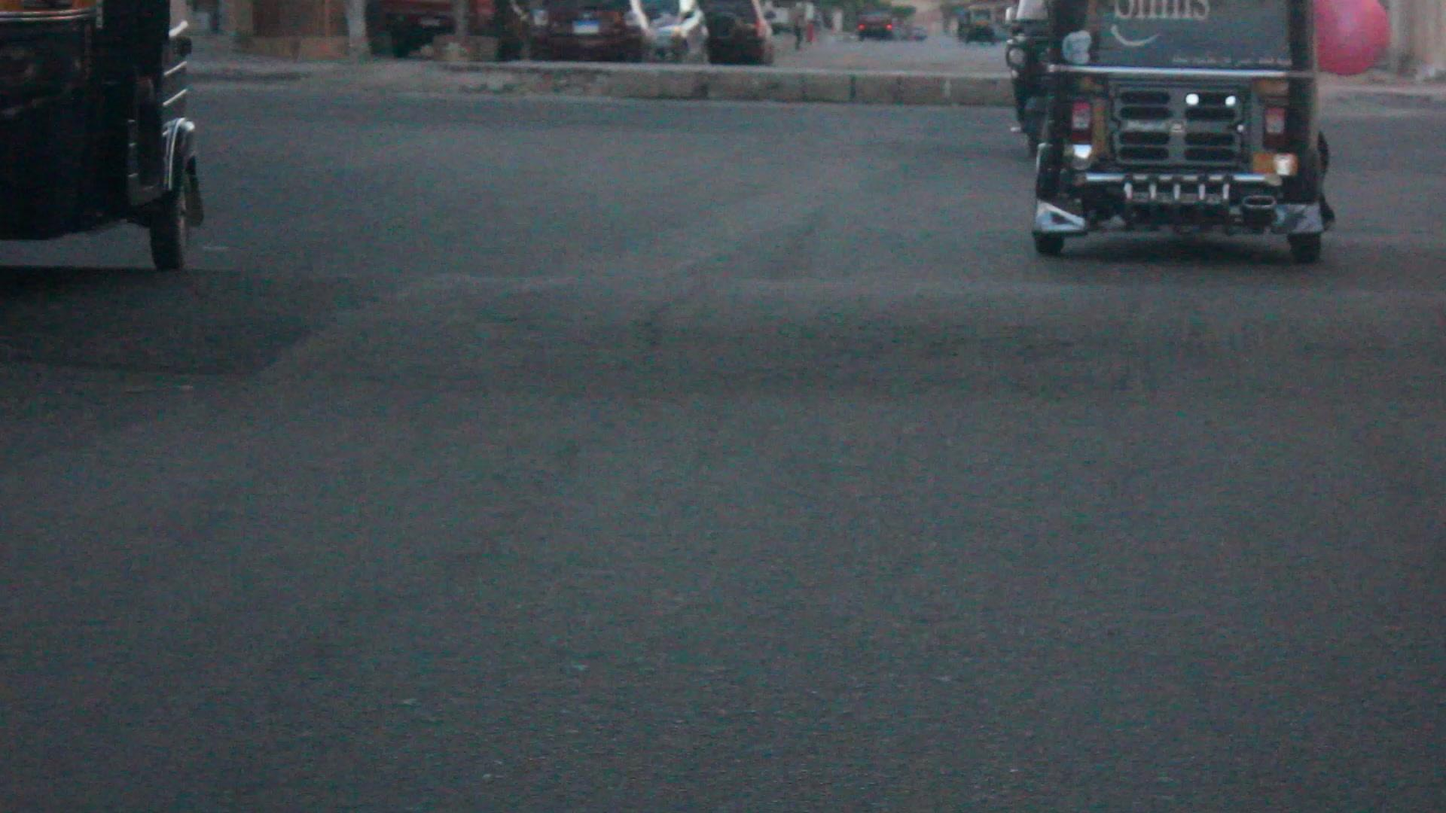Bump: (36, 269, 1446, 425)
